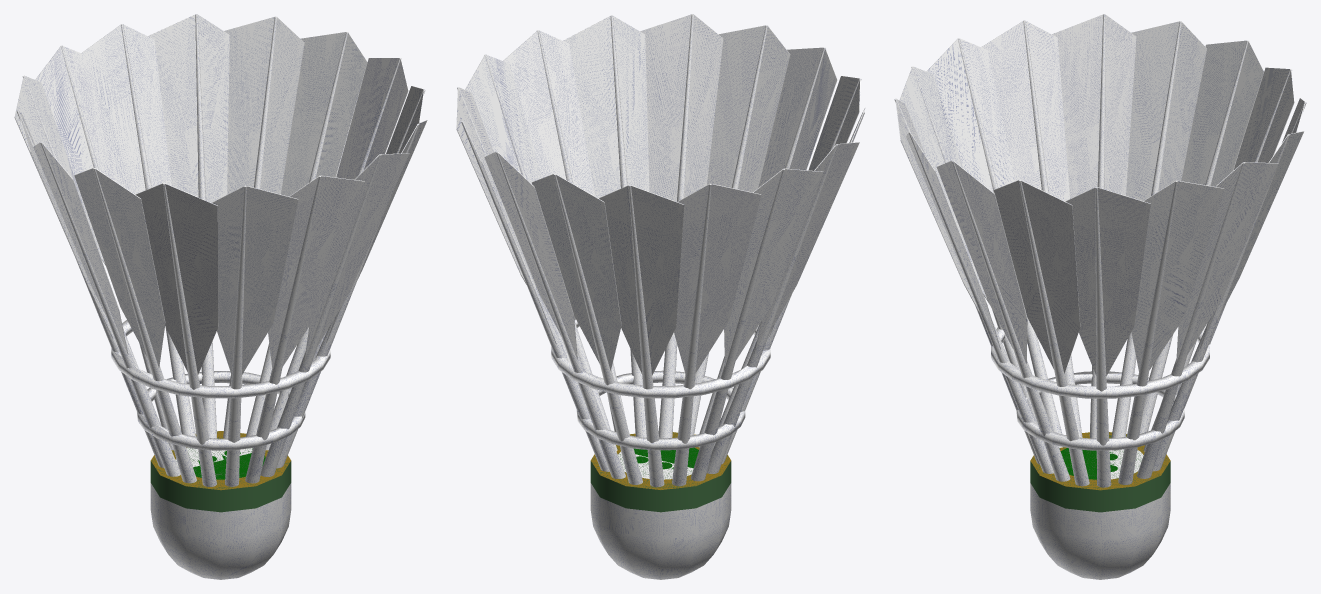
The model's file is Shuttle.dae.
The picture shows the model from 3 angles, left to right: view 1: azimuth 30°, elevation 25°; view 2: azimuth 150°, elevation 25°; view 3: azimuth 270°, elevation 25°; orthographic projection.
Visible parts, largest first — view 1: group_4 (×16), group_5 (×13), group_3 (×14), sphere (×4), convexhull, group_1; view 2: group_4 (×15), group_5 (×14), group_3 (×15), sphere (×3), convexhull, group_1; view 3: group_4 (×15), group_5 (×12), group_3 (×13), sphere (×4), convexhull, group_1.
Boxes of the visible parts, <box> form: group_4 (×16): <box>14,15,427,374</box>; group_5 (×13): <box>24,14,408,374</box>; group_3 (×14): <box>16,14,419,486</box>; sphere (×4): <box>150,431,291,579</box>; convexhull: <box>111,320,330,398</box>; group_1: <box>136,371,305,450</box>; group_4 (×15): <box>456,14,859,375</box>; group_5 (×14): <box>459,15,860,373</box>; group_3 (×15): <box>461,14,864,487</box>; sphere (×3): <box>590,432,731,579</box>; convexhull: <box>551,316,770,398</box>; group_1: <box>576,370,745,450</box>; group_4 (×15): <box>895,14,1303,375</box>; group_5 (×12): <box>913,15,1294,375</box>; group_3 (×13): <box>908,14,1289,487</box>; sphere (×4): <box>1030,432,1170,579</box>; convexhull: <box>991,327,1209,398</box>; group_1: <box>1016,371,1184,450</box>.
Bounding box in the file's own units: 175 × 175 × 221.
